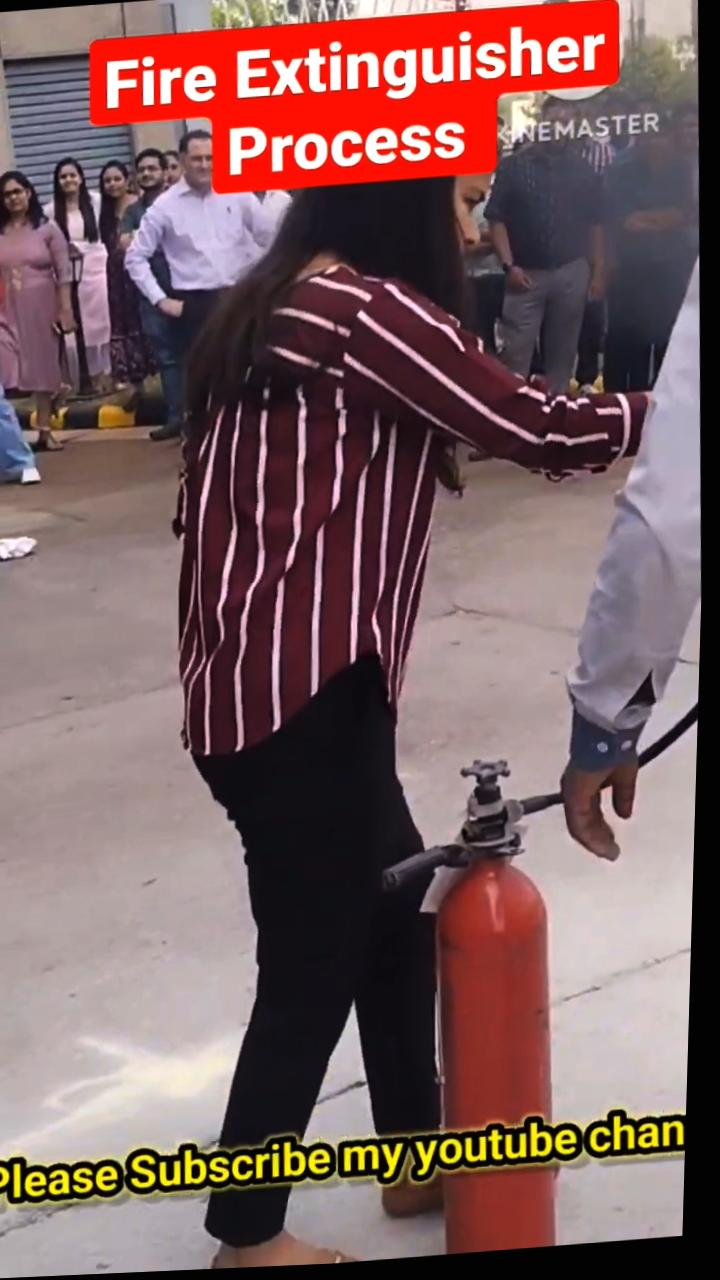FireExtinguisher: (403, 814, 614, 1262)
not: (123, 249, 600, 752), (0, 162, 105, 459)
